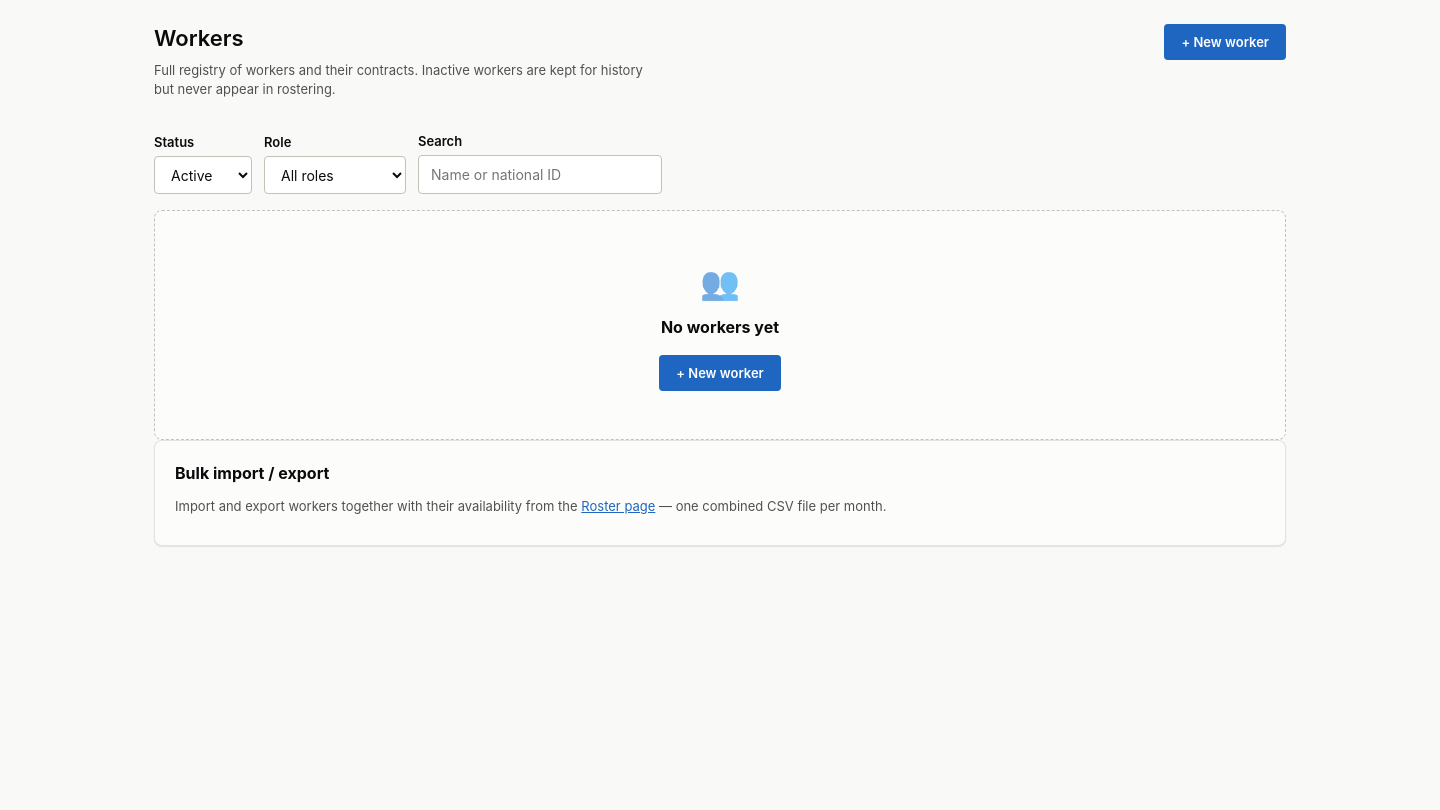
Test: WorkersPage › surfaces a live Israeli-ID checksum error before the form is even submitted
Click the 1st button "+ New worker". click: (1225, 42)
box: x1=1164 y1=24 x2=1286 y2=60
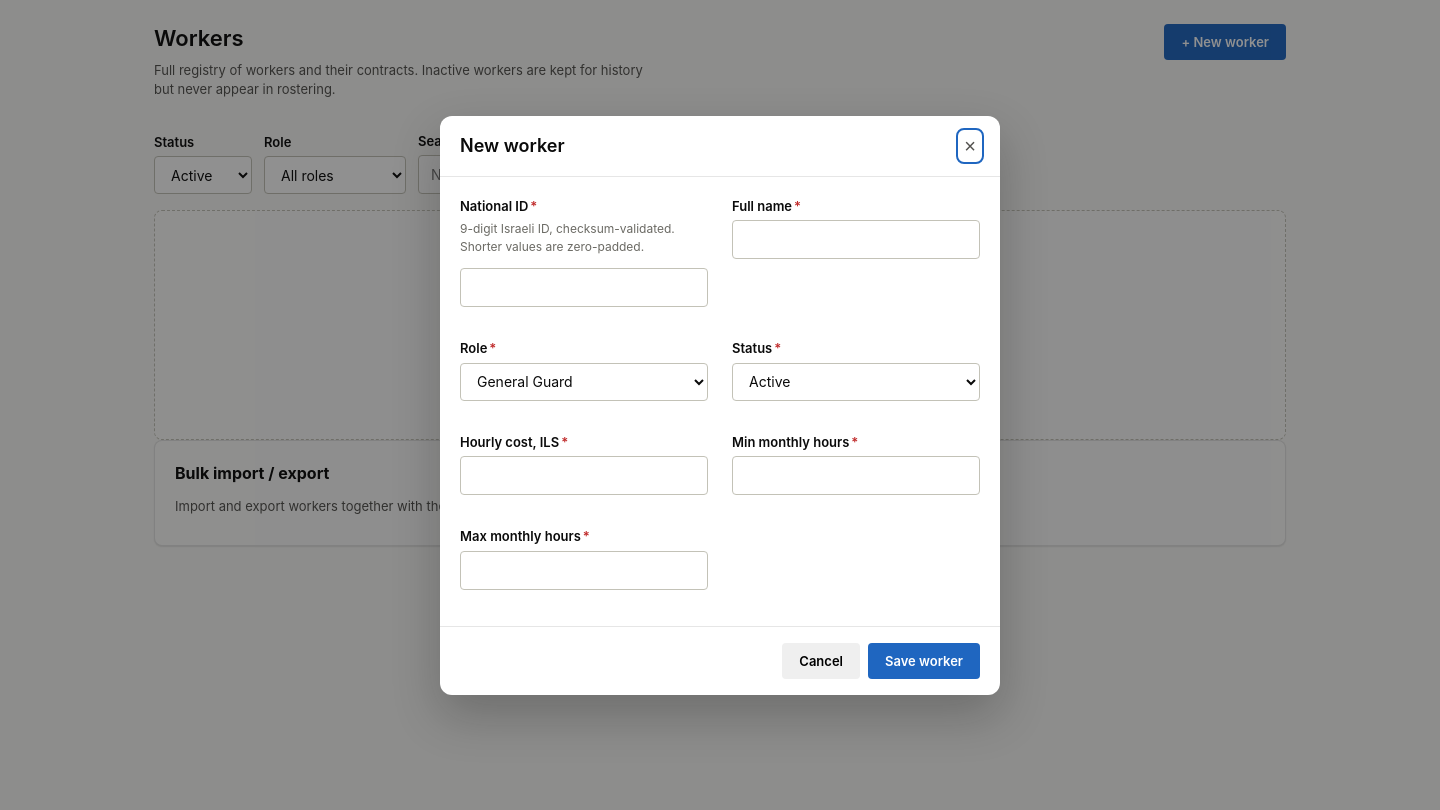
Type "987654321" into the field labelled "National ID". click: (584, 288)
box: x1=460 y1=268 x2=708 y2=307
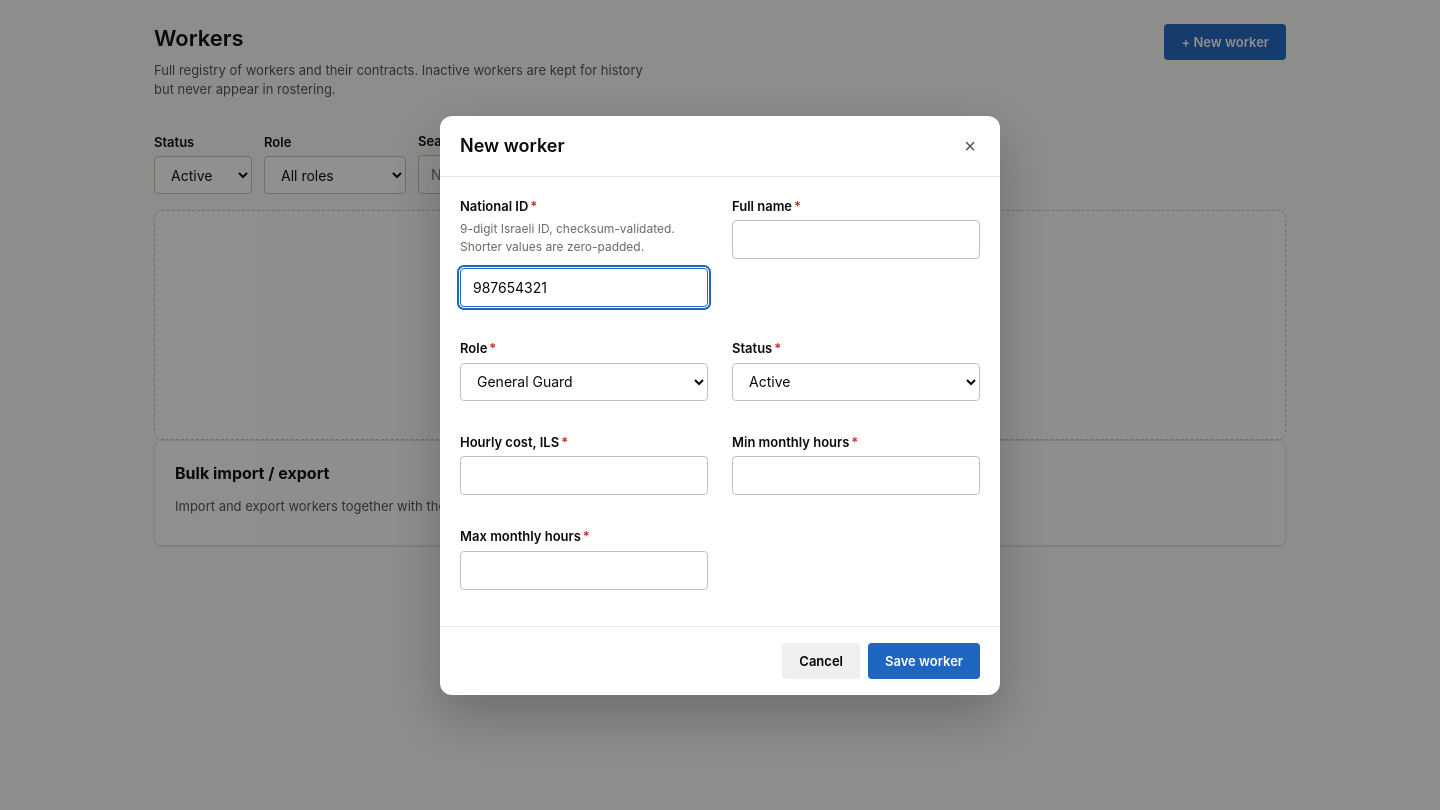
Click the button "Save worker". click: (924, 660)
box: x1=868 y1=642 x2=980 y2=678
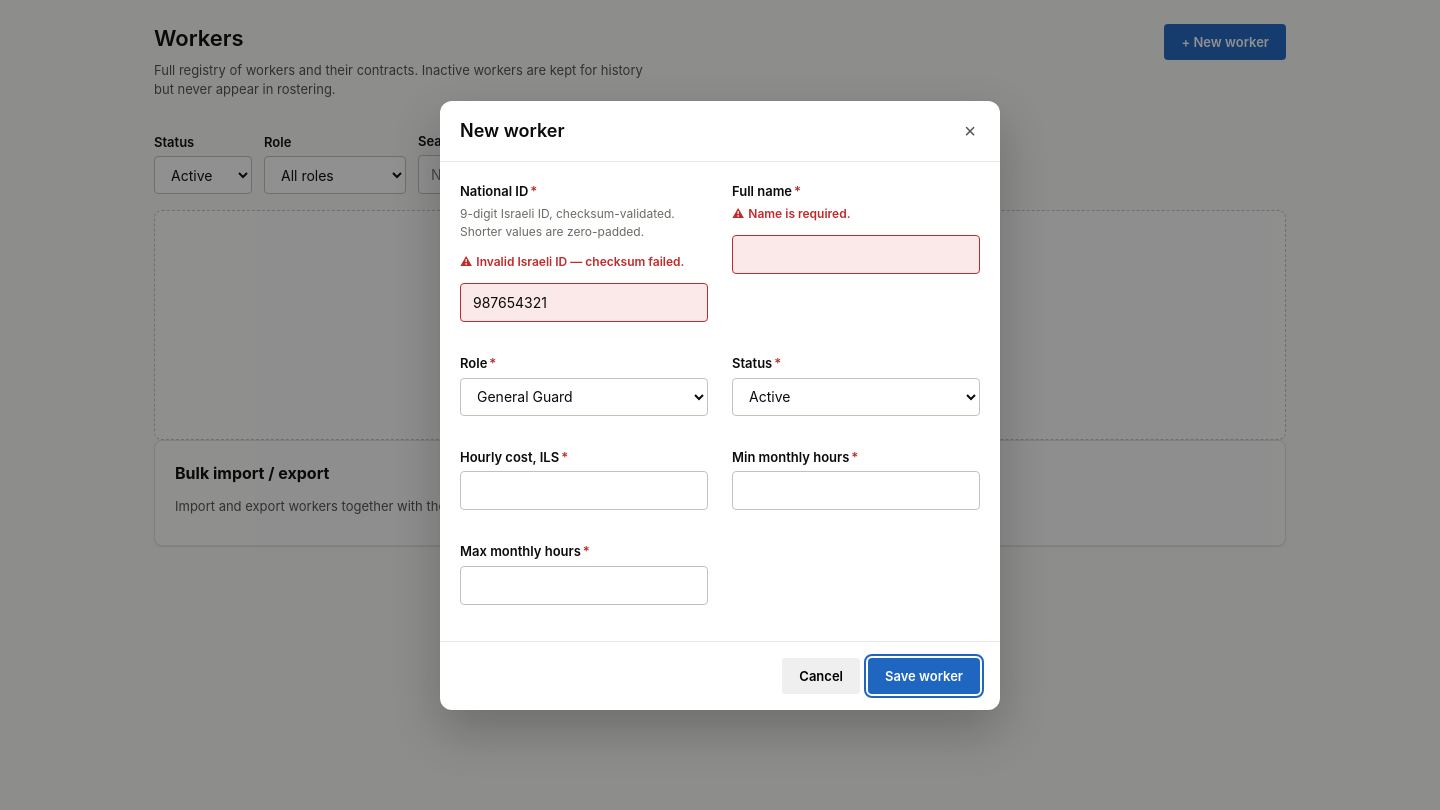
Expected: the text "Invalid Israeli ID — checksum failed." is shown, x1=476 y1=254 x2=684 y2=269
